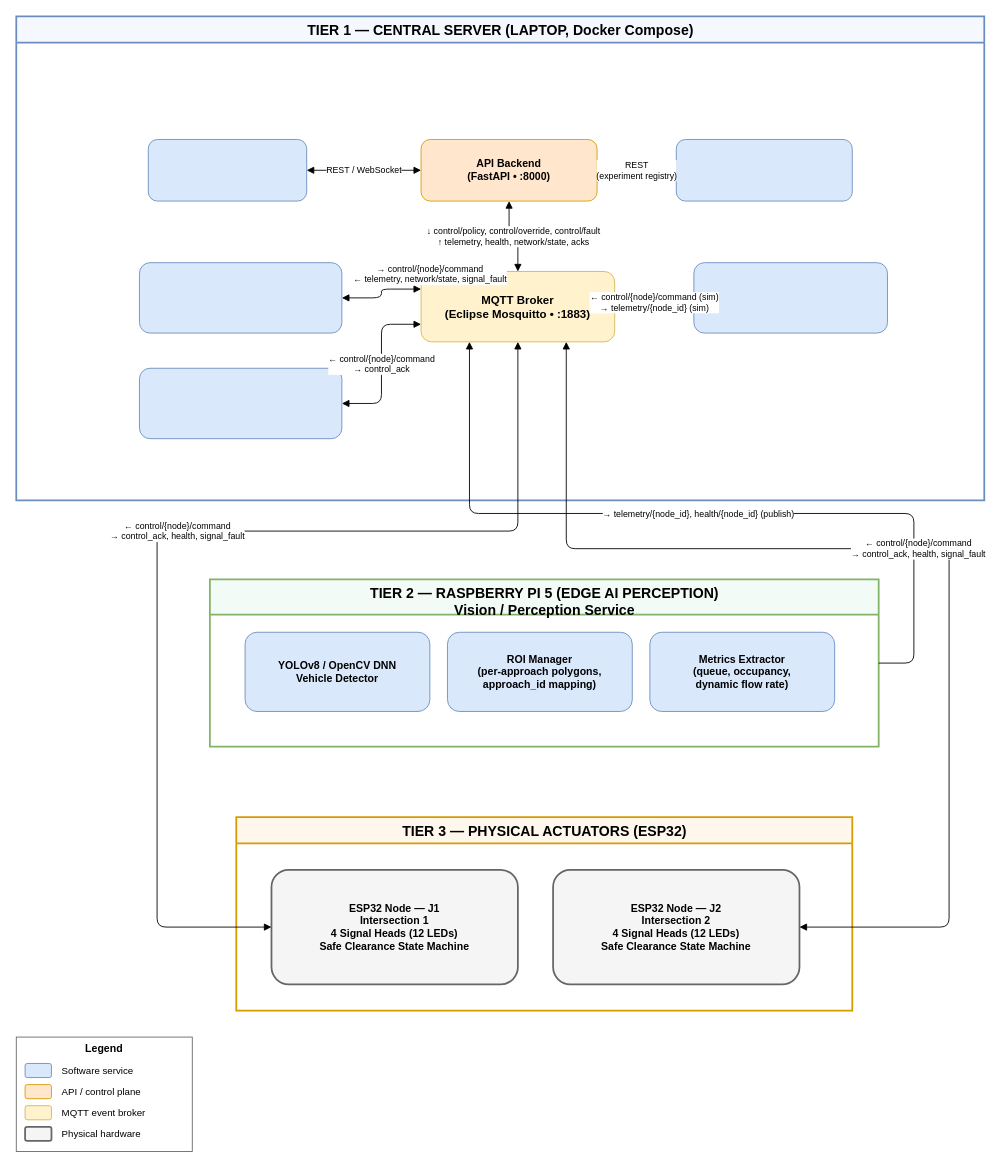
The diagram is 1001 pixels wide and 1167 high, and some of its shapes have lost their labels. Each missing label, with the centre of its shape:
"Actuator Simulation / Virtual Actuator Safe-Phase State Machine" goes at (x=240, y=403).
"Dashboard (React • :3000)" goes at (x=227, y=170).
"Experiment-Runner (Benchmark Orchestrator)" goes at (x=763, y=170).
"Graph-Control EdgeFlow / FlowTheory(CTM) / Max-Pressure / RL Controllers" goes at (x=240, y=297).
"Simulator SUMO Digital Twin (TraCI) + optional internal math fallback" goes at (x=790, y=297).
